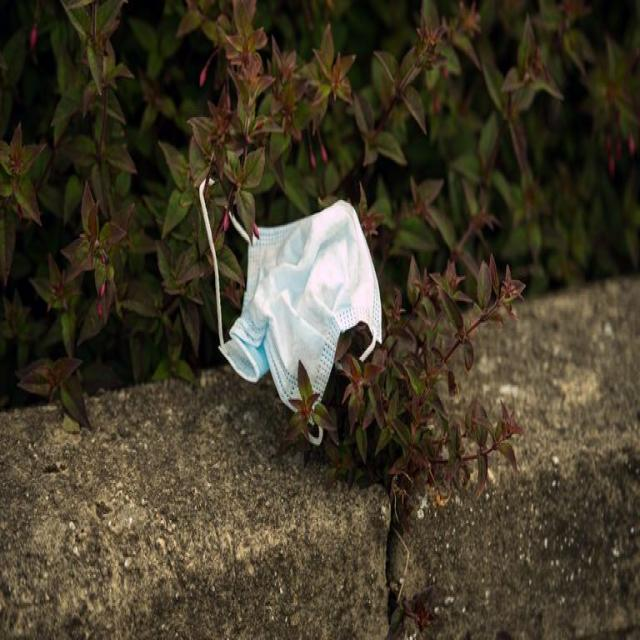non-organic waste: (197, 170, 380, 437)
